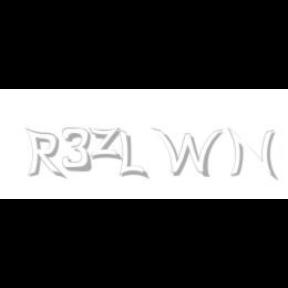3: (62, 128, 94, 172)
L: (118, 128, 146, 180)
N: (226, 128, 276, 180)
R: (25, 128, 63, 180)
W: (151, 128, 223, 178)
z: (88, 128, 124, 160)
